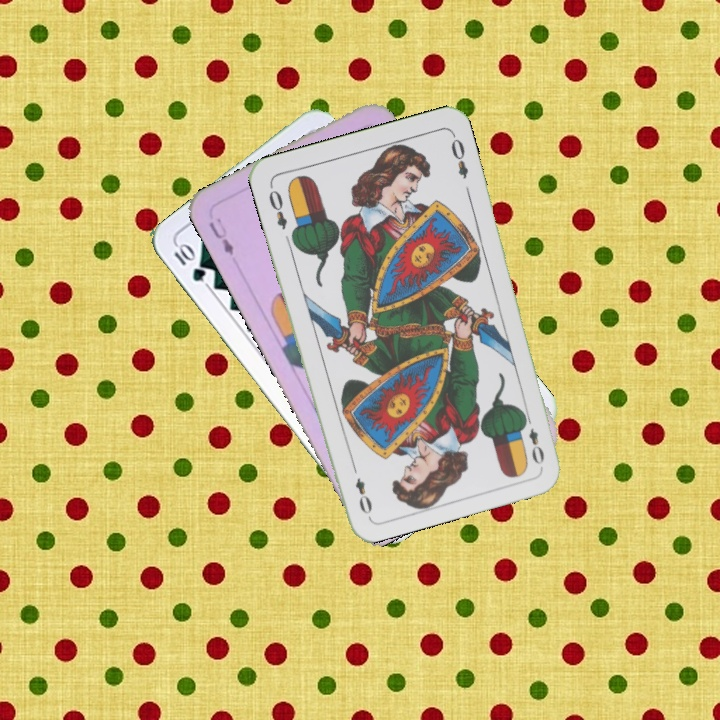EO: (519, 410, 547, 467), (264, 185, 290, 232)
EU: (205, 214, 237, 259)
G10: (169, 239, 209, 285)
